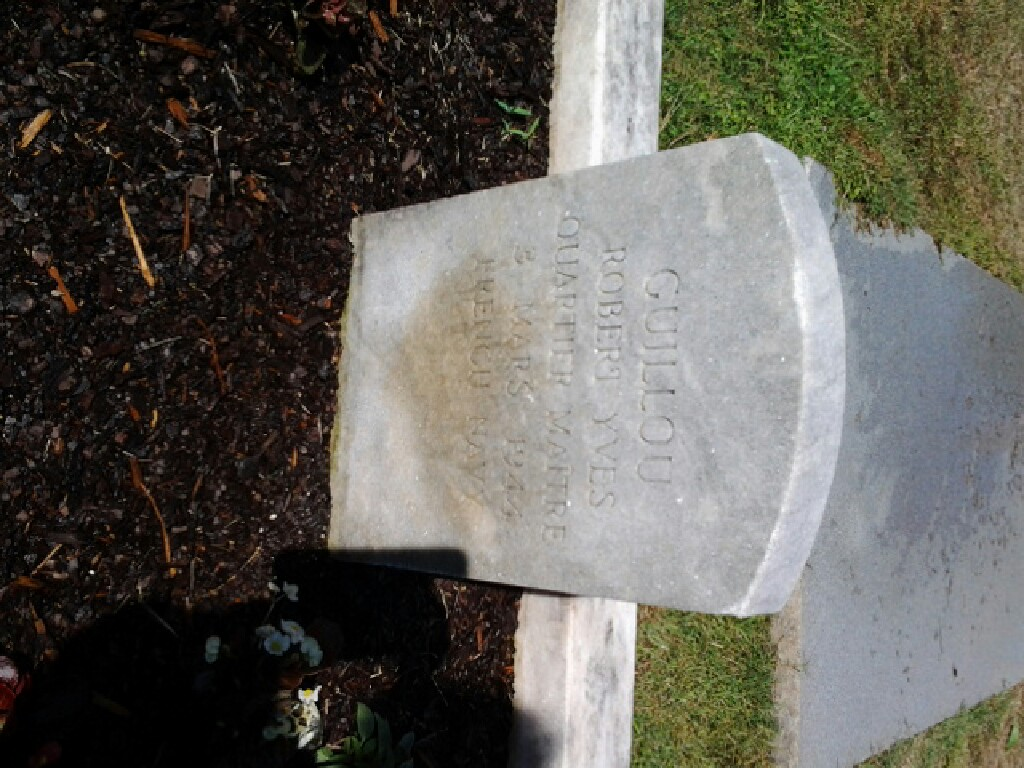military: (271, 117, 879, 630)
